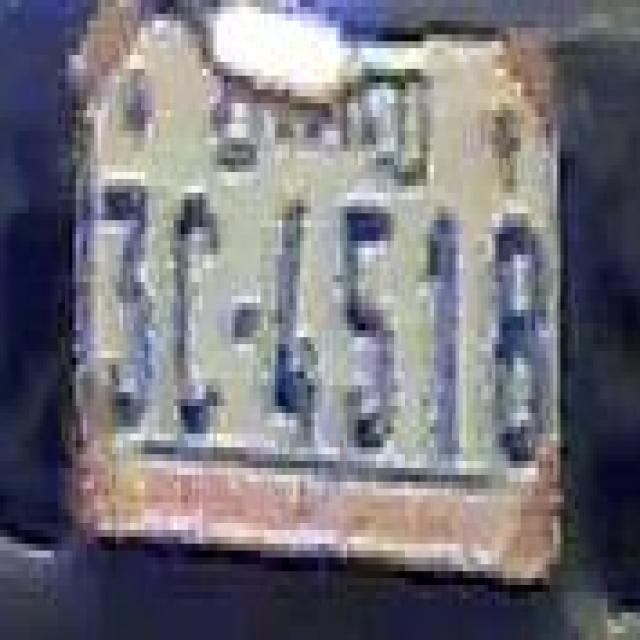Phnom_Penh: (214, 41, 436, 186)
